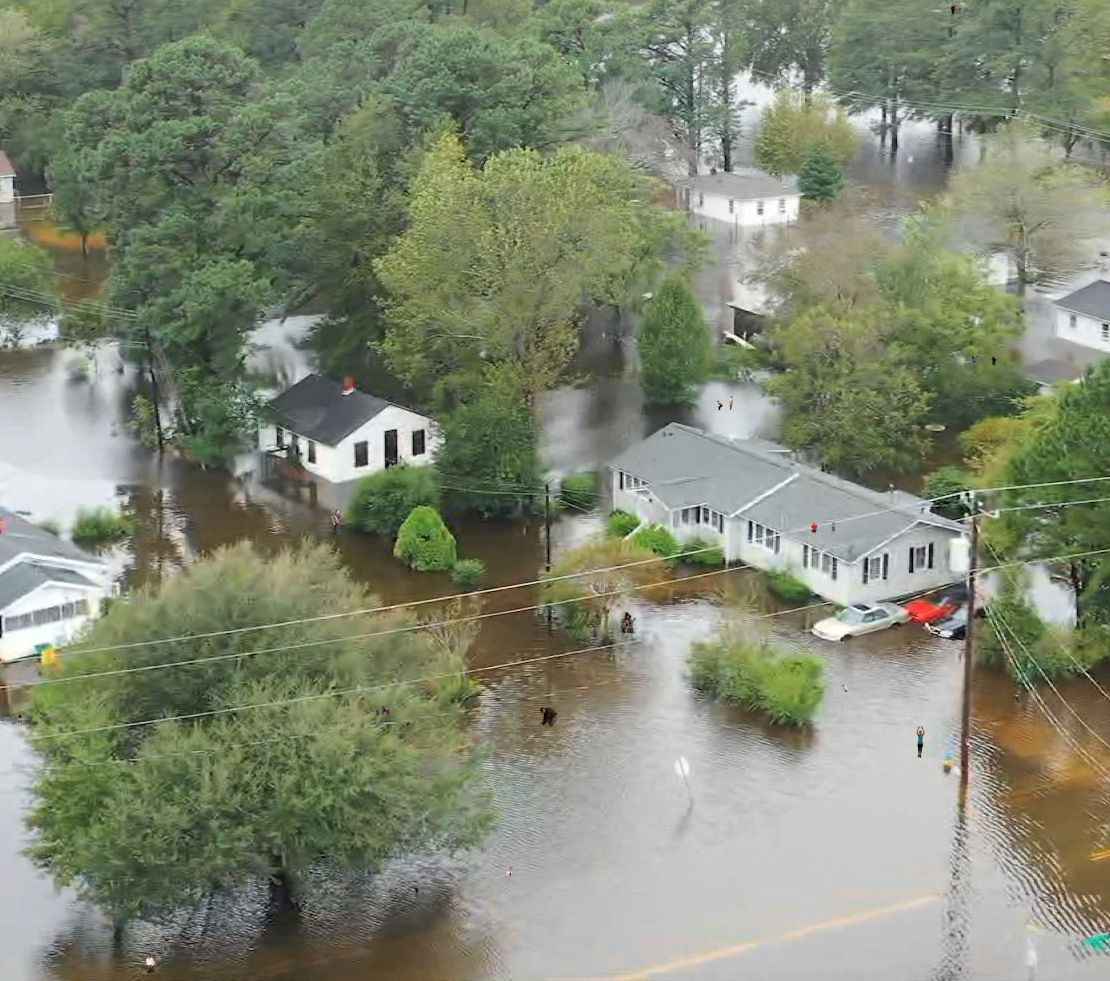Human: (539, 706, 561, 728), (807, 521, 835, 538), (620, 612, 641, 634), (972, 351, 997, 366), (330, 509, 342, 535), (916, 726, 925, 758), (941, 4, 965, 15), (370, 705, 393, 716), (715, 396, 733, 410), (146, 954, 155, 972), (413, 886, 424, 900), (77, 325, 95, 331), (505, 866, 513, 878), (221, 870, 232, 878), (1013, 695, 1021, 703), (18, 713, 22, 724), (842, 685, 848, 692), (267, 164, 271, 173), (406, 722, 410, 726), (269, 823, 271, 829), (879, 126, 881, 130), (653, 459, 655, 462), (113, 658, 116, 660), (909, 74, 910, 77)
